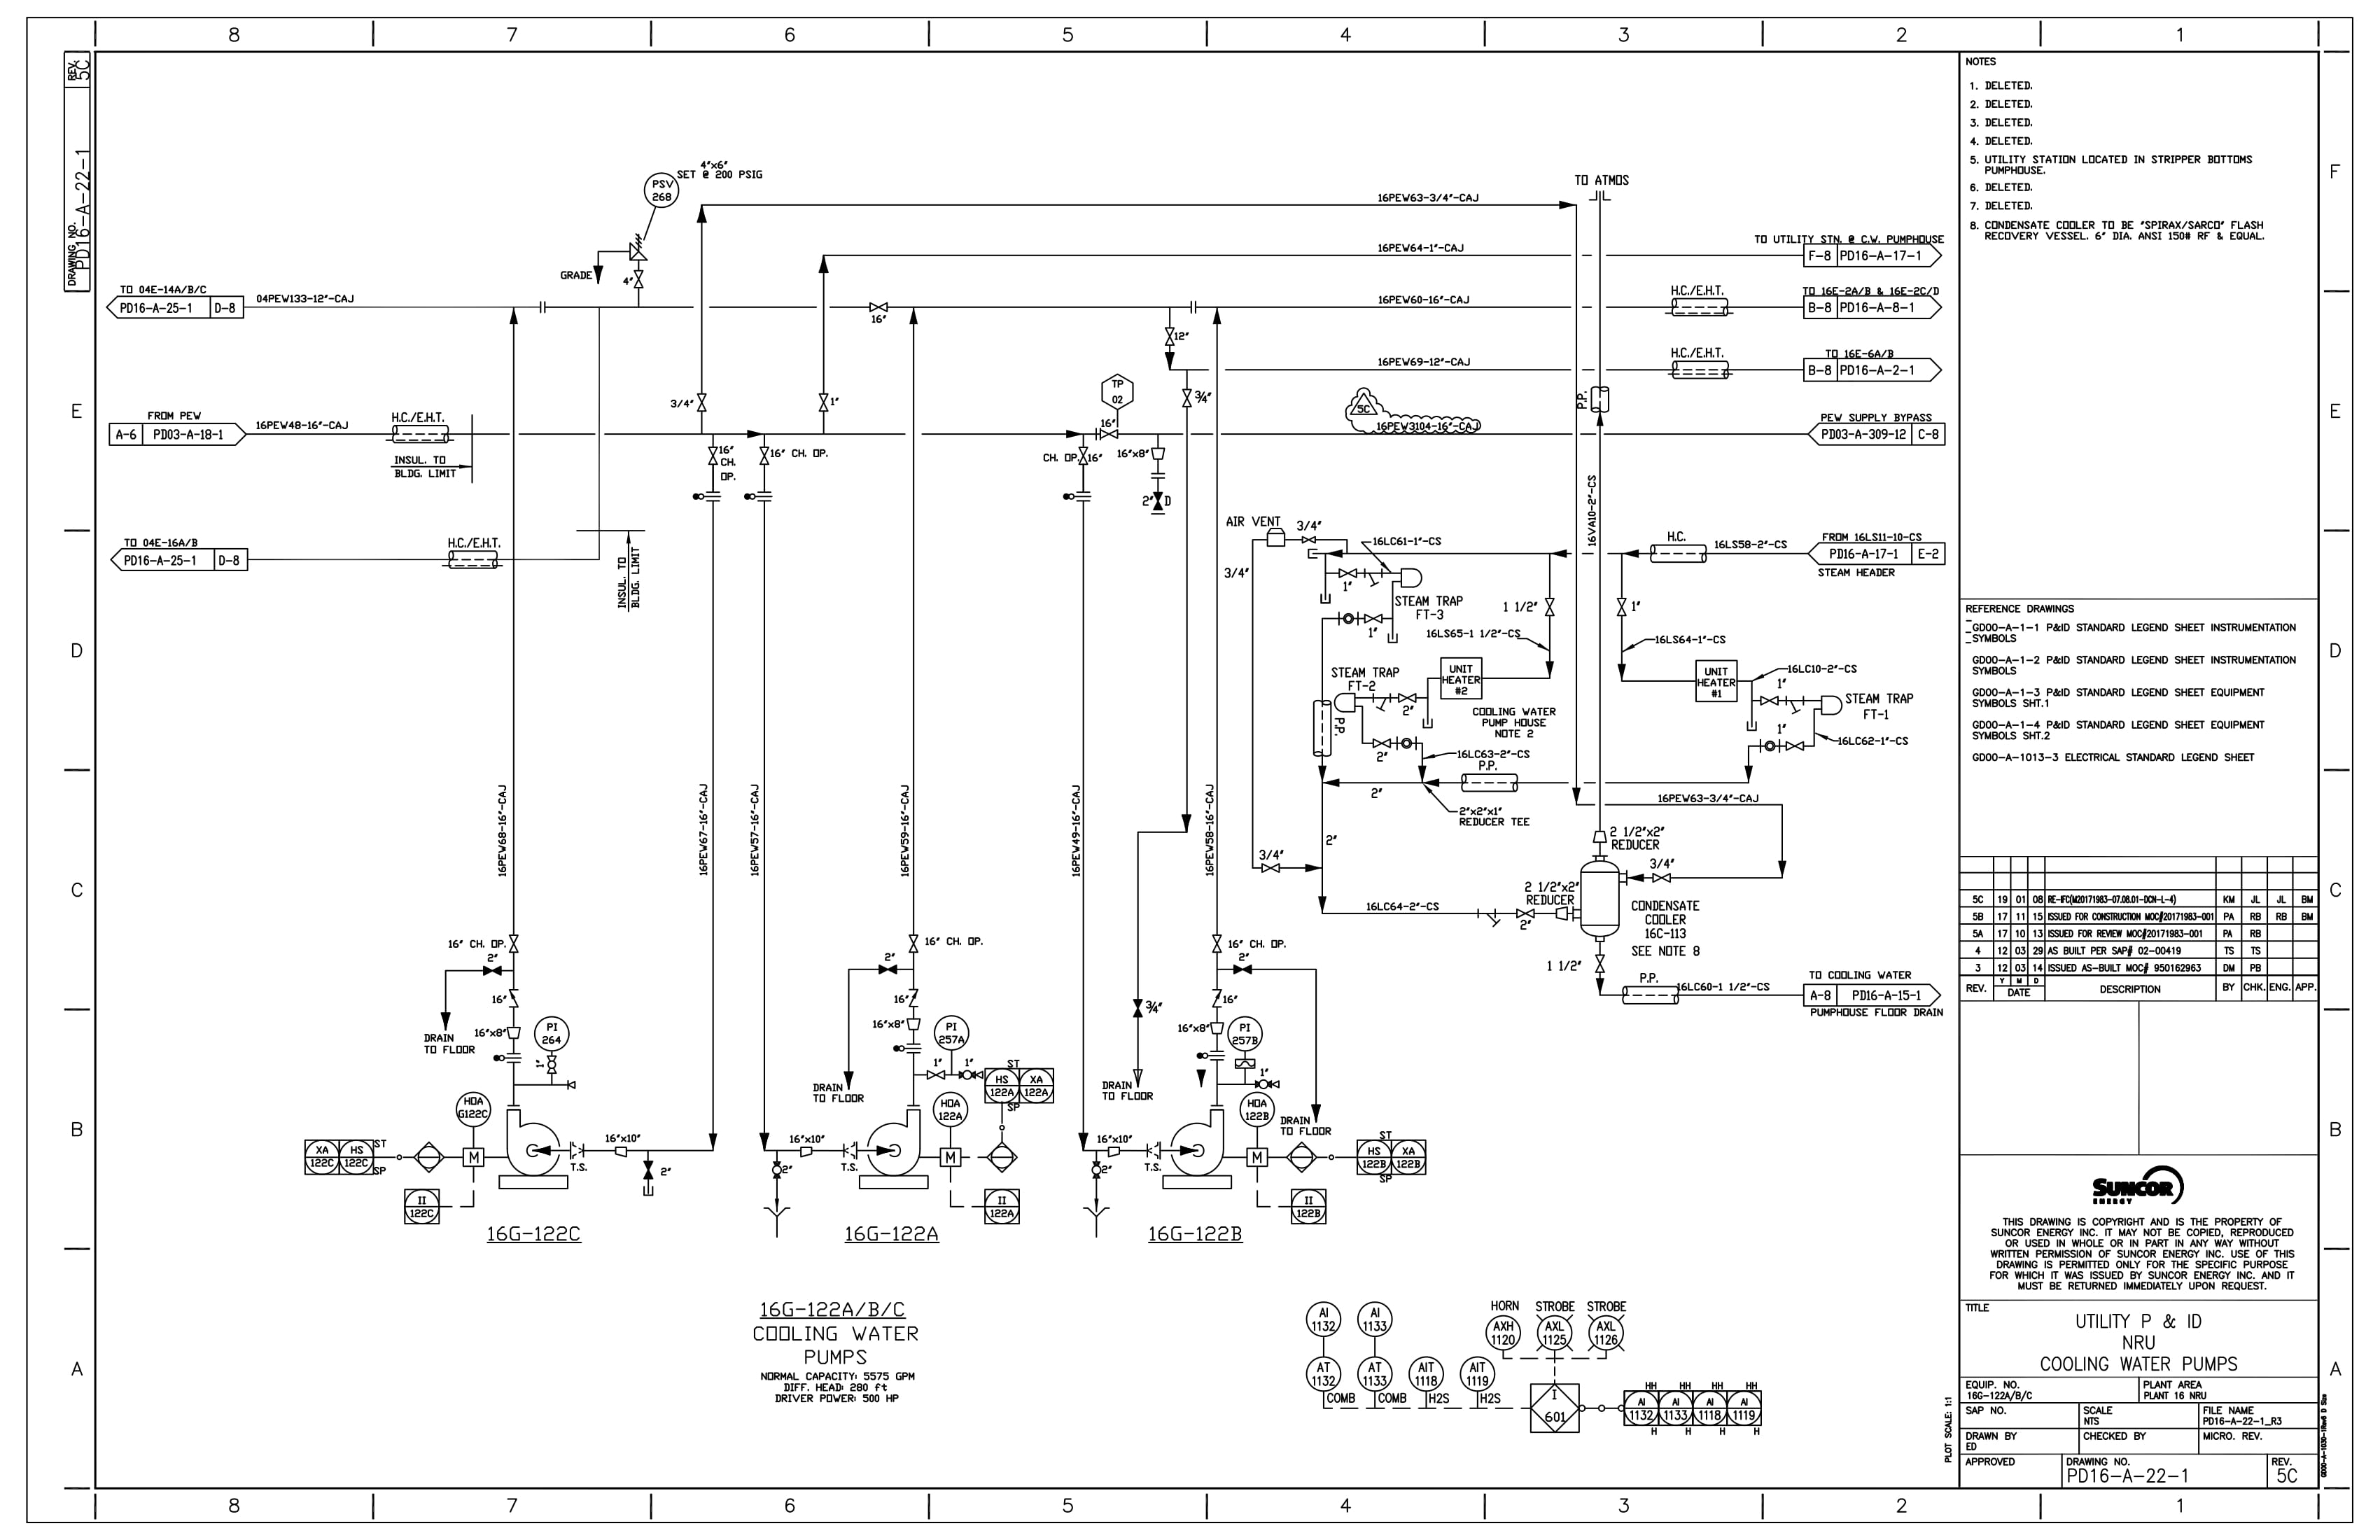Inline Instrument: (1353, 1289, 1407, 1351), (1476, 1308, 1532, 1365), (1304, 1349, 1362, 1401), (1303, 1289, 1348, 1349), (642, 165, 683, 217), (926, 1015, 980, 1054), (1223, 1015, 1275, 1054), (534, 1013, 579, 1056), (928, 1087, 973, 1131), (1237, 1087, 1280, 1127)
Panel Instrument: (1388, 1132, 1440, 1183), (982, 1186, 1032, 1237), (1724, 1386, 1771, 1434), (1287, 1186, 1336, 1231), (1353, 1134, 1395, 1181), (401, 1186, 444, 1230), (302, 1136, 343, 1176), (1622, 1387, 1662, 1429)
